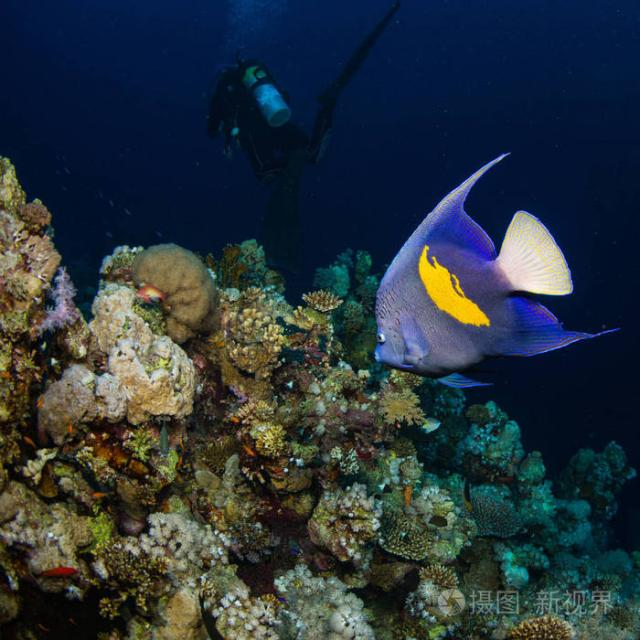AngelFish: (377, 154, 619, 381)
